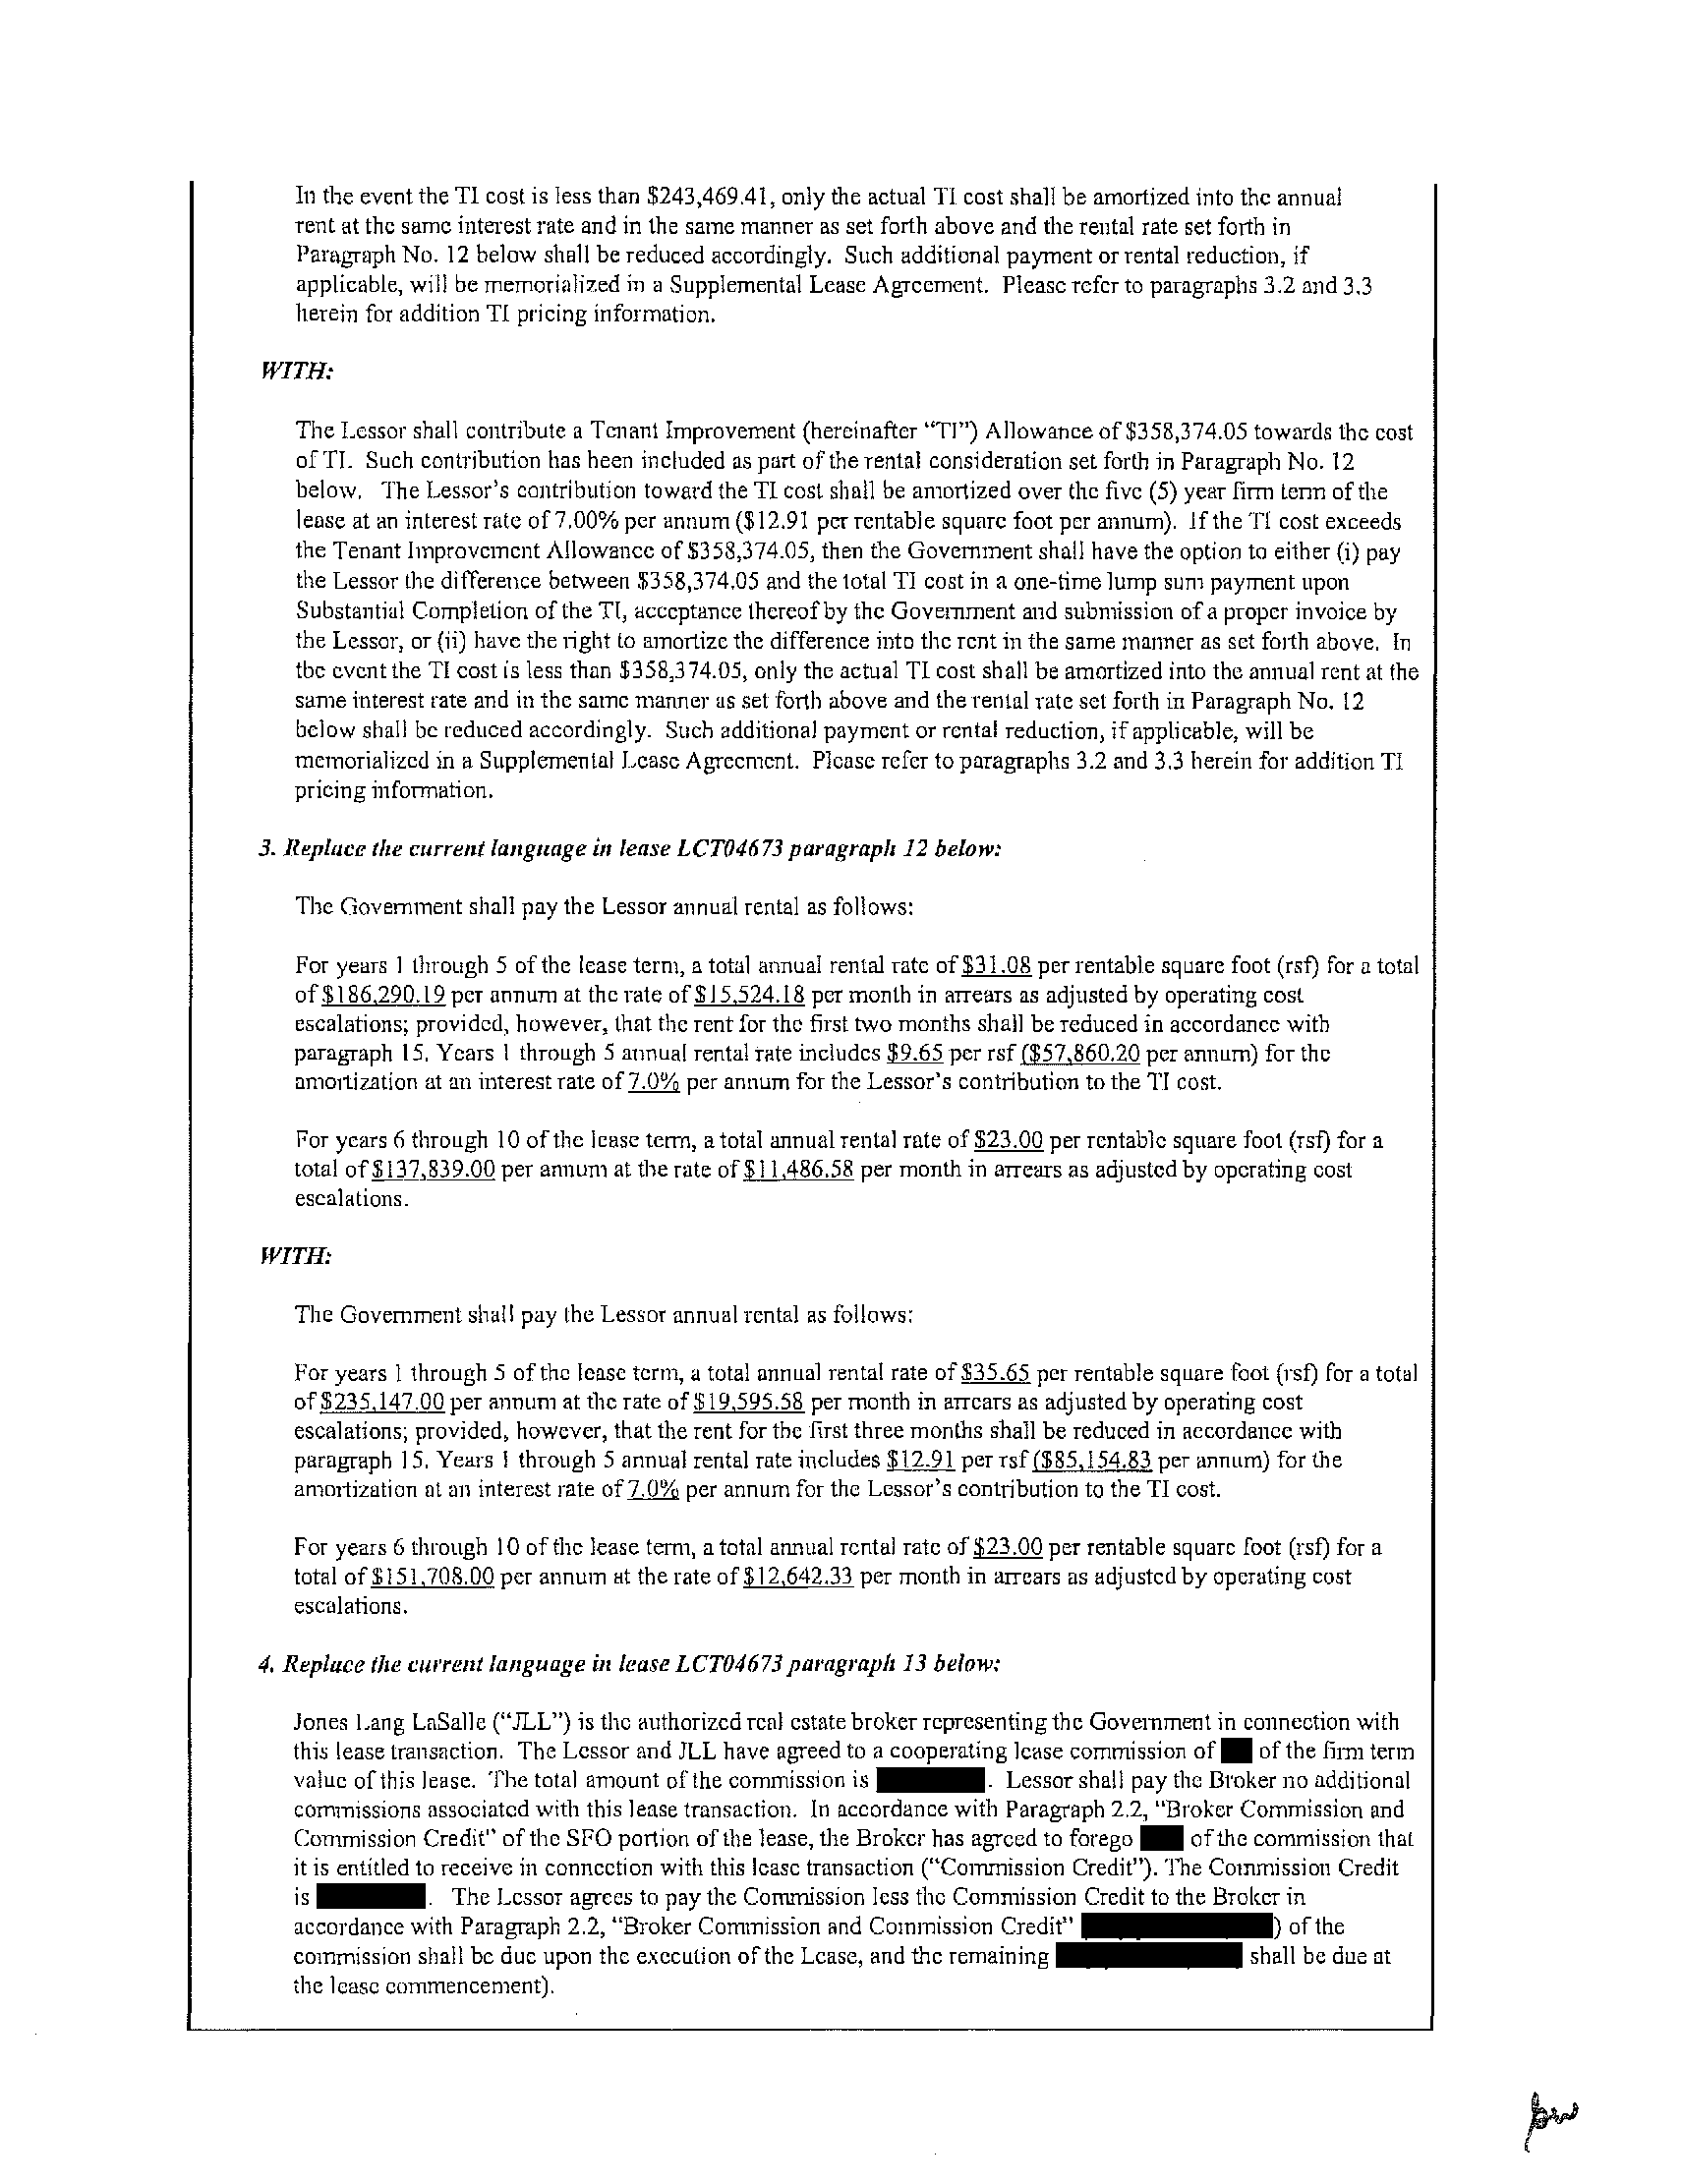handwritten: (1512, 2064, 1588, 2147)
